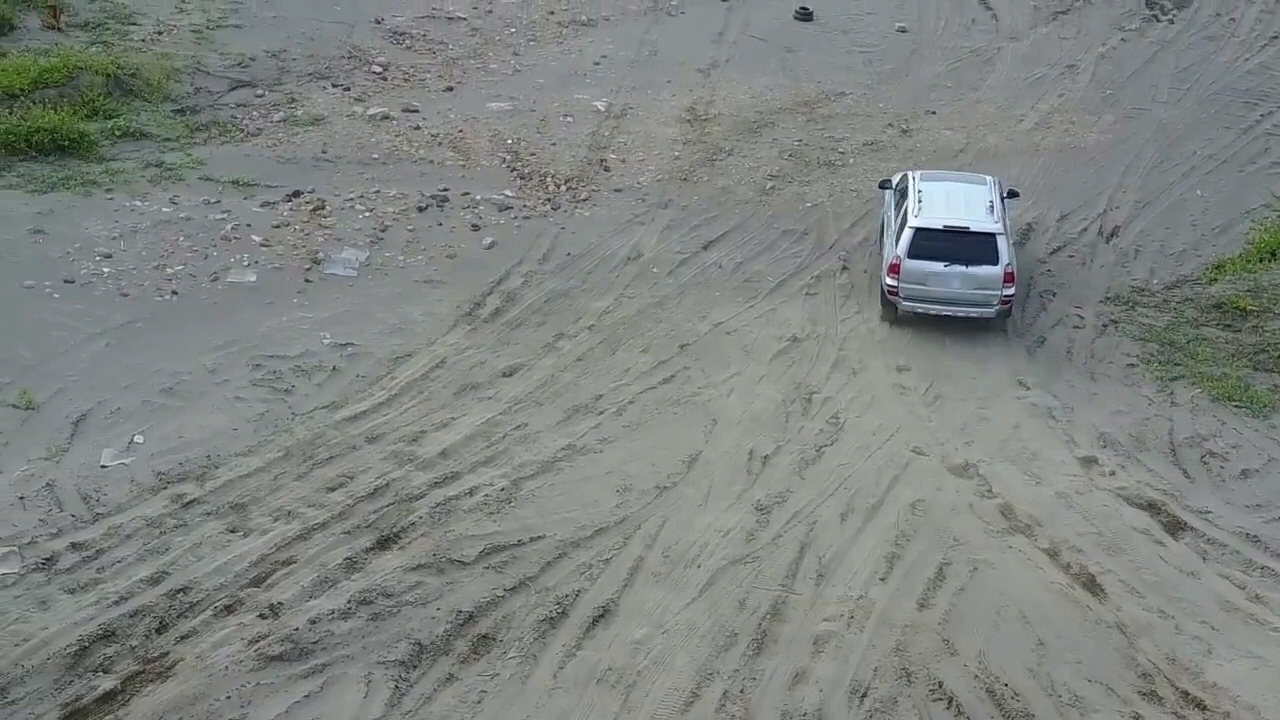araba: (877, 166, 1021, 322)
